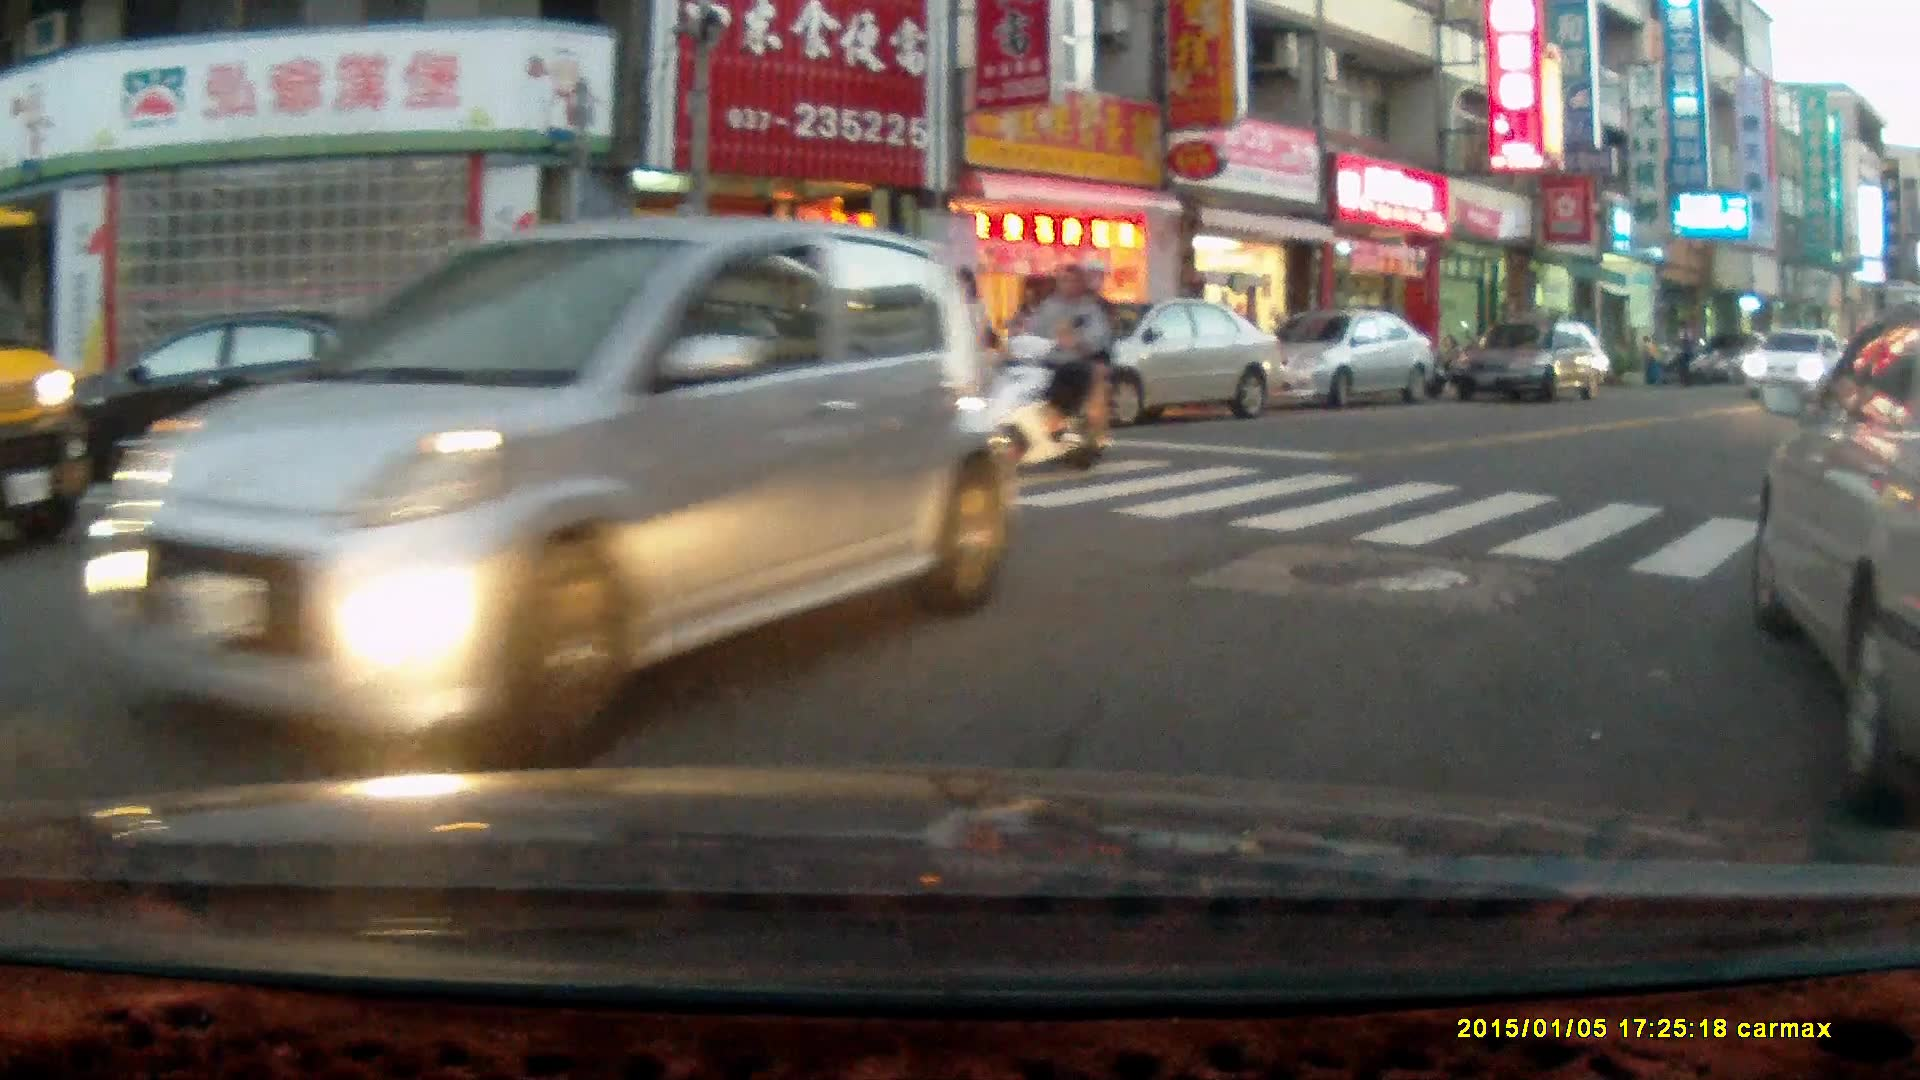rider: (954, 255, 1117, 475)
vehicle: (58, 213, 994, 750), (1746, 306, 1920, 772), (59, 311, 450, 483), (1031, 297, 1290, 422), (1251, 308, 1441, 403), (1447, 318, 1616, 407)
